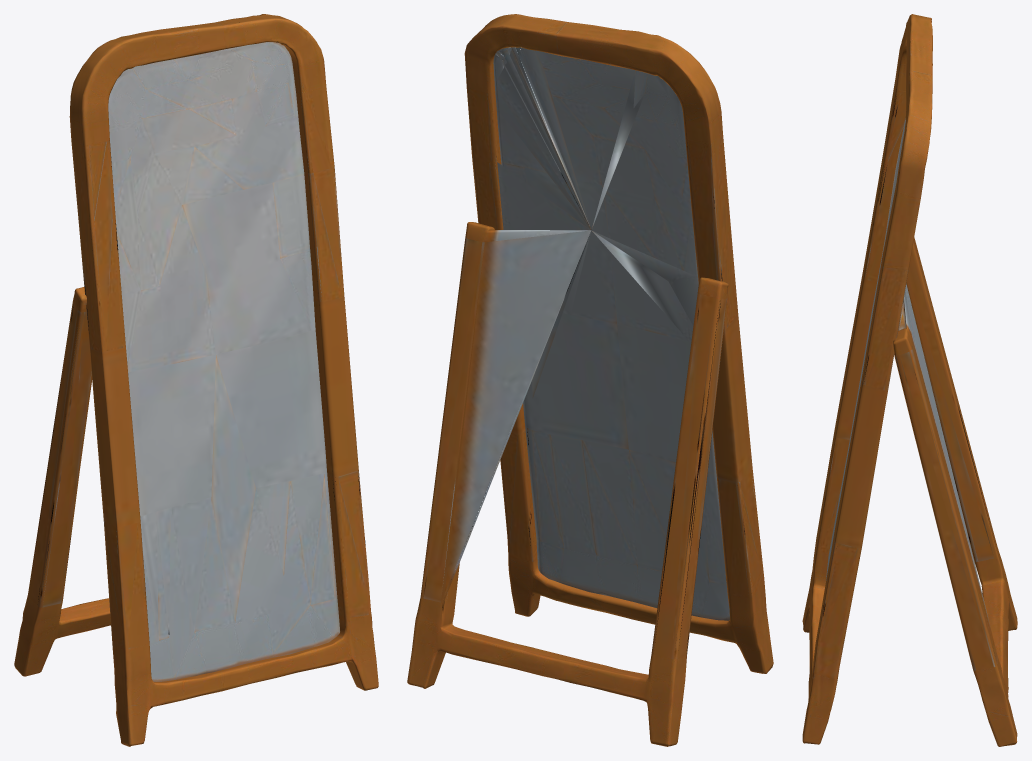
Rendered from mirror.panel.glb.
The picture shows the model from 3 angles, left to right: view 1: azimuth 30°, elevation 25°; view 2: azimuth 150°, elevation 25°; view 3: azimuth 270°, elevation 25°; orthographic projection. The views are drawn at different scales.
Parts seen in each view (by area): view 1: geometry_0; view 2: geometry_0; view 3: geometry_0.
Boxes of the visible parts, x1,y1,x2,y2 form: geometry_0: [14, 14, 378, 746]; geometry_0: [407, 14, 773, 746]; geometry_0: [802, 14, 1017, 746].
Size of the model in its own units: 0.4173 by 1 by 0.3068.
1 material, 1 textured.
